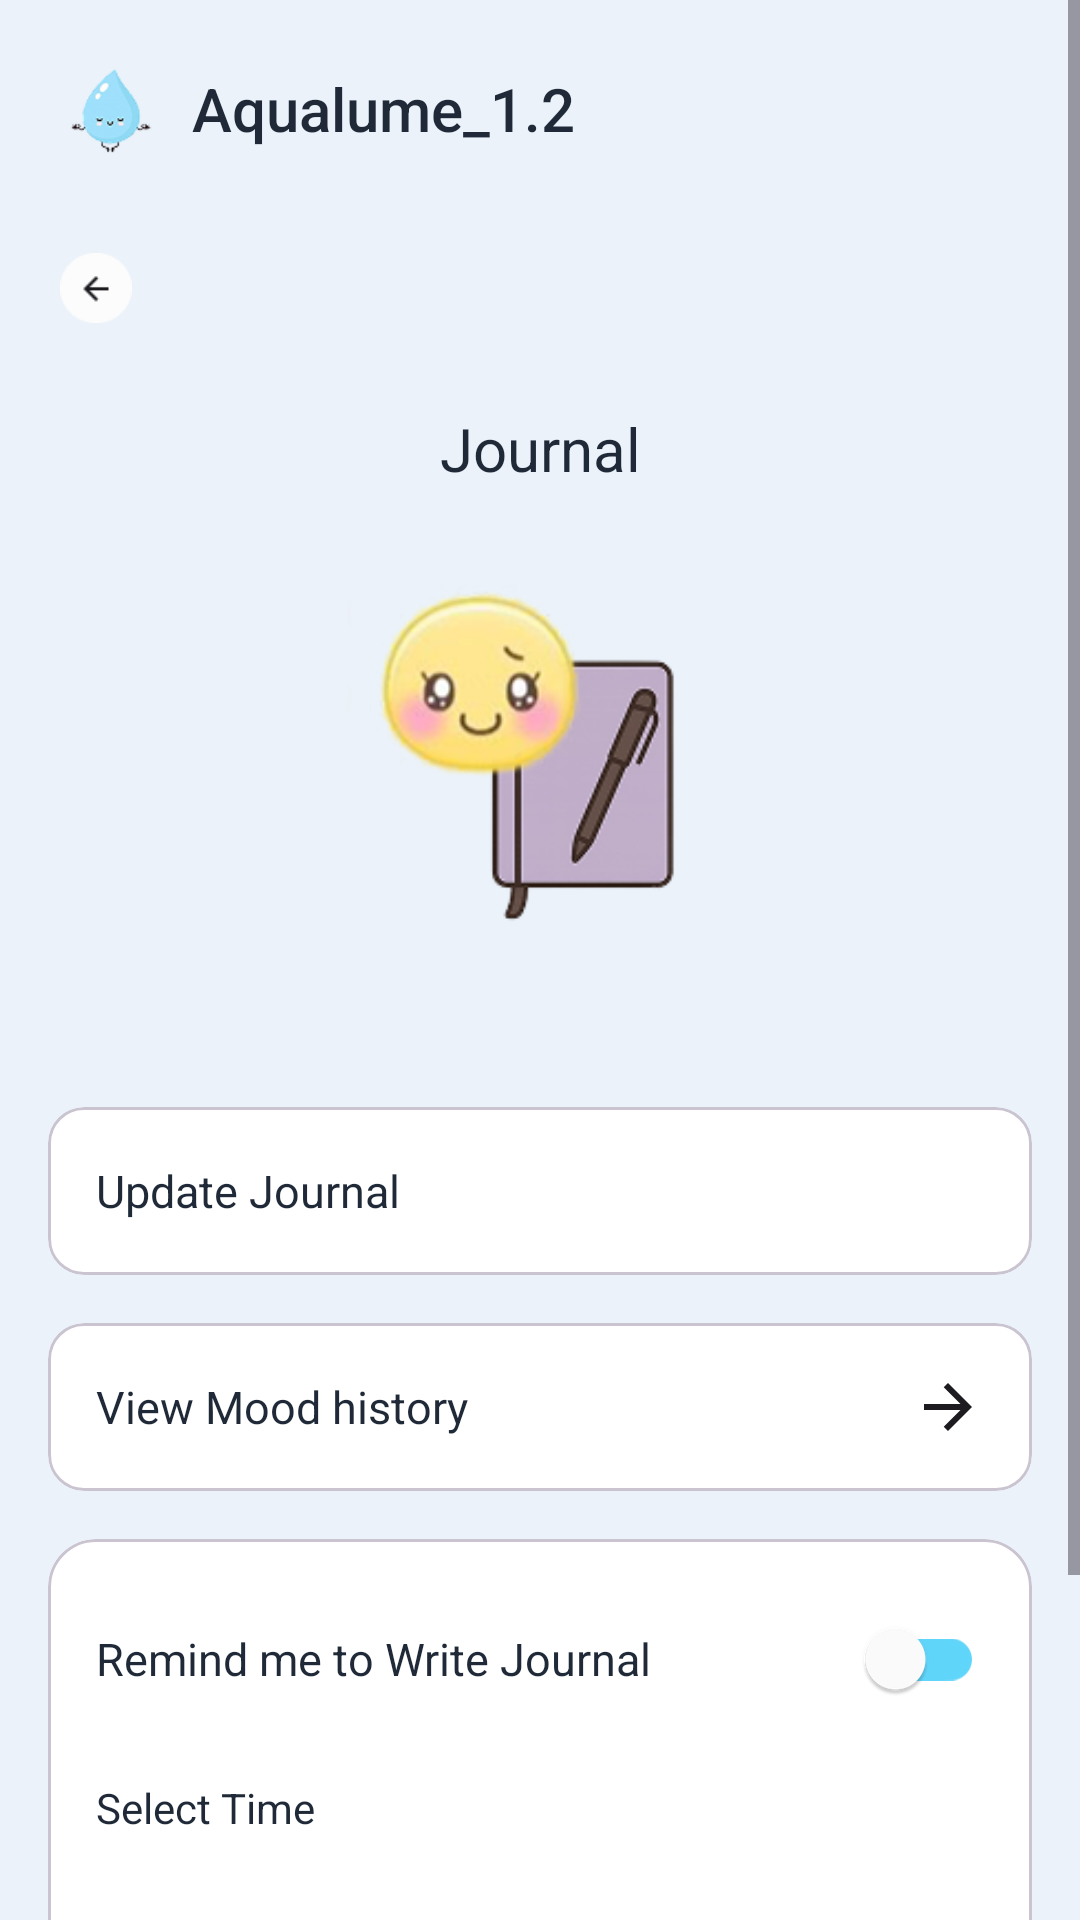

Where icons sit on this 1080 x 1920 app screen, as {"x1": x1, "y1": y1, "x2": x2, "y2": y2}:
arrow right: {"x1": 924, "y1": 1383, "x2": 972, "y2": 1431}
Back: {"x1": 60, "y1": 253, "x2": 132, "y2": 323}
